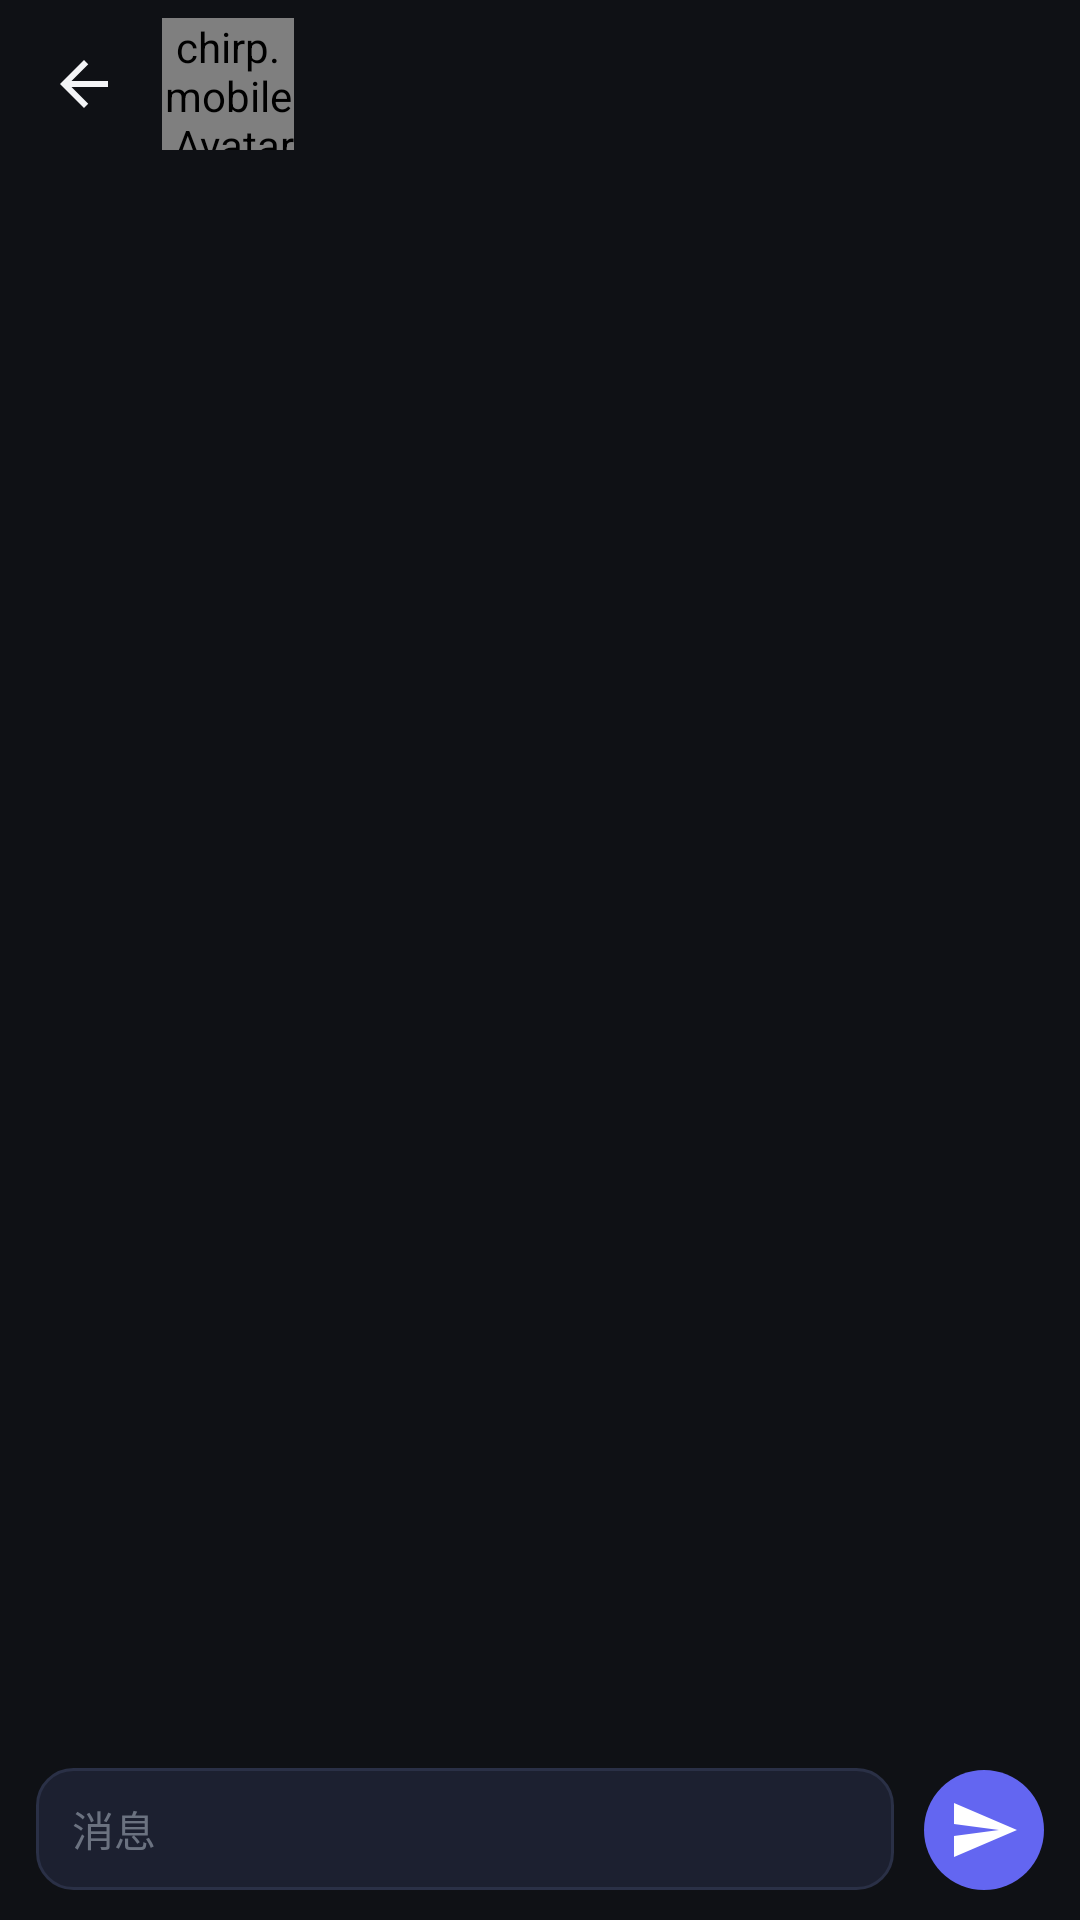

Screen size 1080x1920. Icon name, then its box in pixels as {"left": x1, "top": y1, "right": x2, "bottom": y2}:
发送: {"left": 924, "top": 1770, "right": 1044, "bottom": 1890}
返回: {"left": 60, "top": 60, "right": 108, "bottom": 108}
